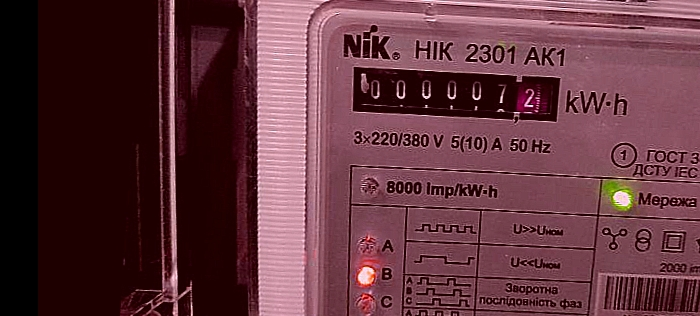0: (369, 77, 385, 102), (446, 79, 462, 103), (471, 80, 486, 104), (395, 79, 410, 102), (421, 79, 436, 102)
2: (524, 87, 538, 111)
7: (497, 82, 511, 106)
screen: (342, 54, 573, 135)
